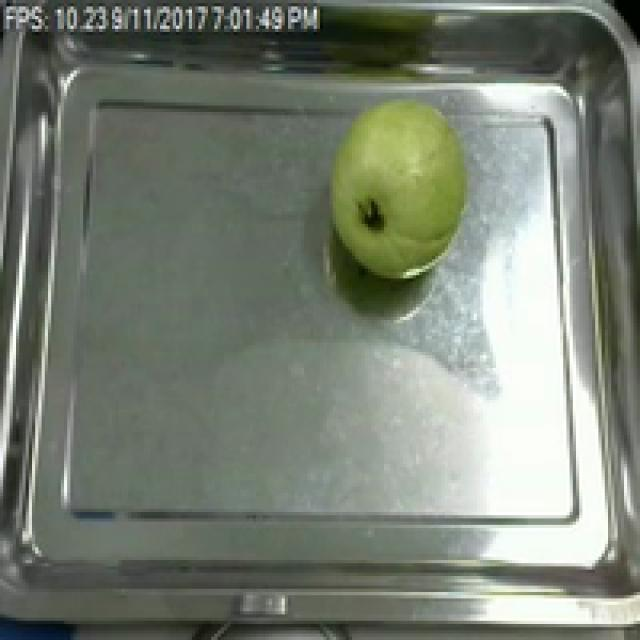Fruit: (317, 83, 480, 288)
